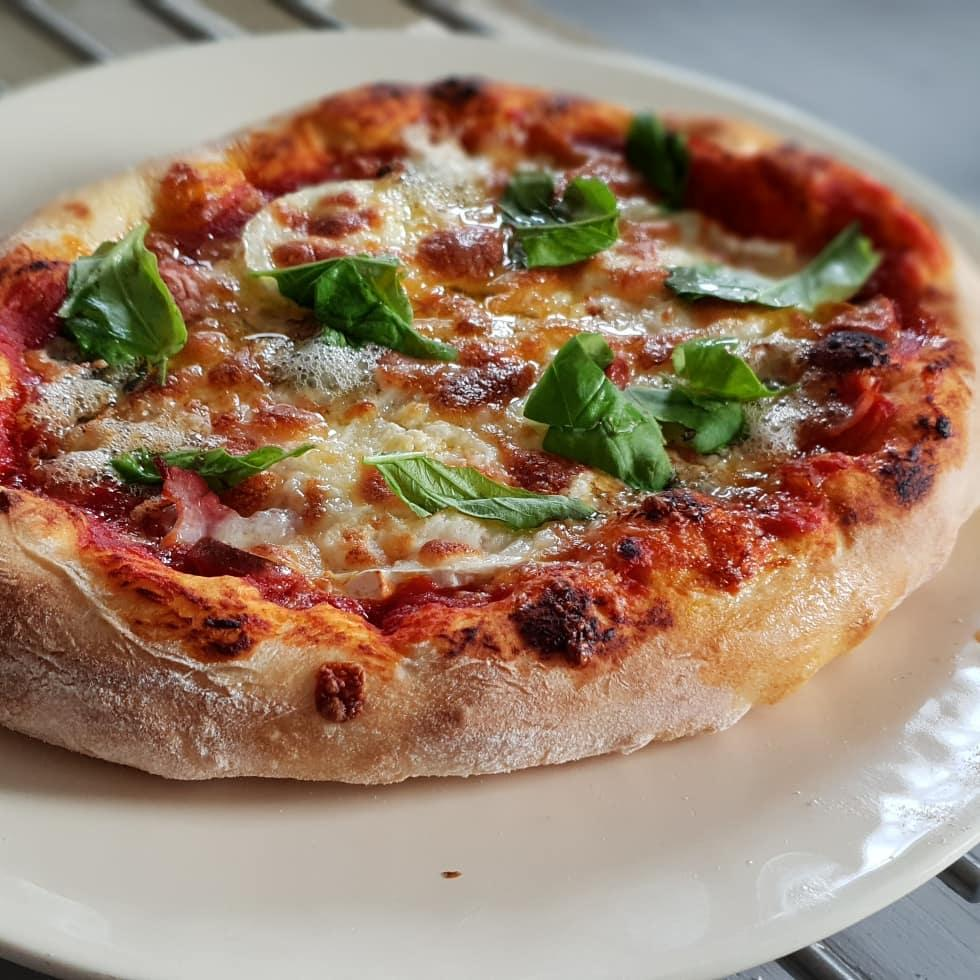Basil: (508, 323, 678, 486), (361, 438, 602, 542), (652, 226, 902, 326), (55, 215, 198, 381), (249, 257, 467, 364), (631, 330, 781, 469), (481, 158, 626, 280), (107, 431, 322, 496), (618, 101, 711, 212)
Pizza: (0, 70, 980, 788)
